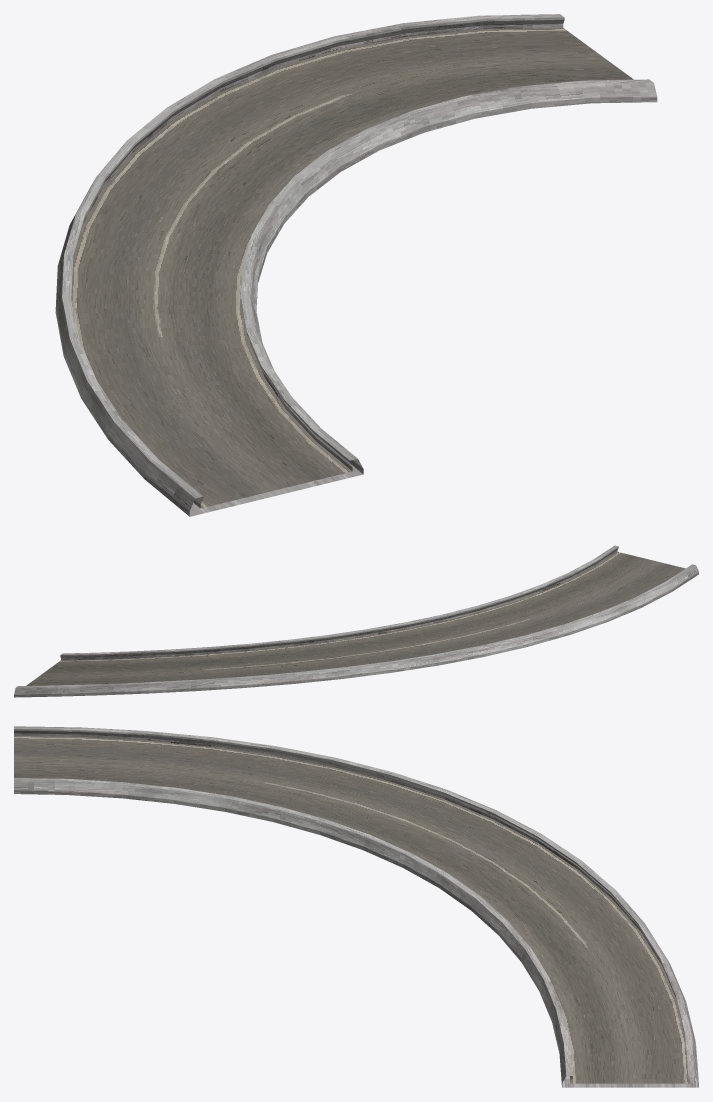
File: road-Turn-Flat-BiSlopeDown-Down2-Right-Size5.glb
3 renders of one model, top to bottom at view 1: azimuth 30°, elevation 25°; view 2: azimuth 150°, elevation 25°; view 3: azimuth 270°, elevation 25°, orthographic. The views are drawn at different scales.
Parts seen in each view (by area): view 1: road-Turn-Flat-BiSlopeDown-Down2-Right-Size5; view 2: road-Turn-Flat-BiSlopeDown-Down2-Right-Size5; view 3: road-Turn-Flat-BiSlopeDown-Down2-Right-Size5.
Boxes of the visible parts, bbox=[...] form: road-Turn-Flat-BiSlopeDown-Down2-Right-Size5: bbox=[55, 14, 657, 516]; road-Turn-Flat-BiSlopeDown-Down2-Right-Size5: bbox=[14, 545, 698, 697]; road-Turn-Flat-BiSlopeDown-Down2-Right-Size5: bbox=[14, 726, 698, 1087].
Bounding box in the file's own units: 5 × 0.6164 × 5.
2 materials, 2 textured.
